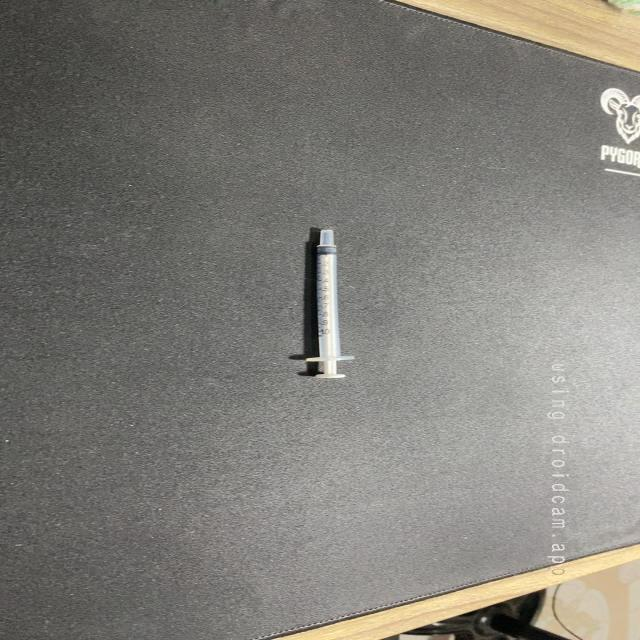syringe: (289, 224, 364, 385)
